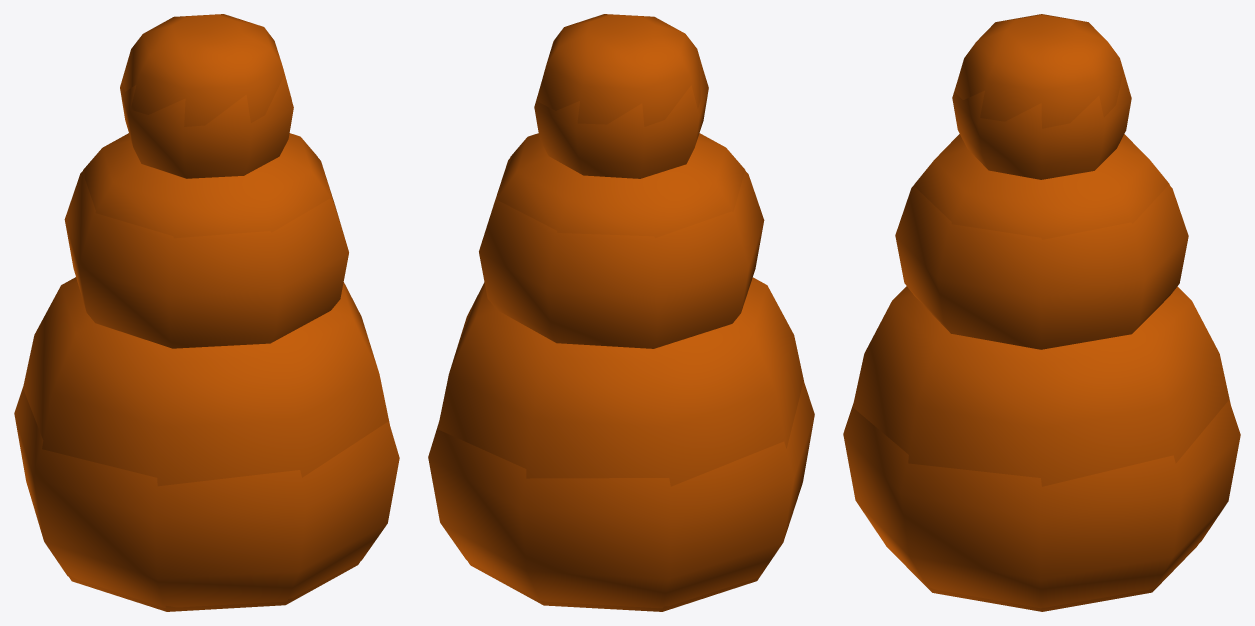
File: pumpkins.fbx
3 renders of one model, left to right at view 1: azimuth 30°, elevation 25°; view 2: azimuth 150°, elevation 25°; view 3: azimuth 270°, elevation 25°, orthographic.
Visible parts, largest first — view 1: LOD_23.57, LOD_23.8, LOD_23.001; view 2: LOD_23.57, LOD_23.8, LOD_23.001; view 3: LOD_23.57, LOD_23.8, LOD_23.001.
Boxes of the visible parts, left/top/right/bottom form: LOD_23.57: left=14, top=75, right=399, bottom=607; LOD_23.8: left=23, top=277, right=390, bottom=486; LOD_23.001: left=67, top=14, right=360, bottom=611; LOD_23.57: left=428, top=57, right=814, bottom=608; LOD_23.8: left=437, top=277, right=803, bottom=486; LOD_23.001: left=467, top=14, right=759, bottom=611; LOD_23.57: left=843, top=72, right=1240, bottom=608; LOD_23.8: left=852, top=286, right=1230, bottom=486; LOD_23.001: left=882, top=14, right=1198, bottom=611.
Size of what is drawn, in the model's own units: 124 by 186 by 124.
Materials: 1 (1 with a texture image).
